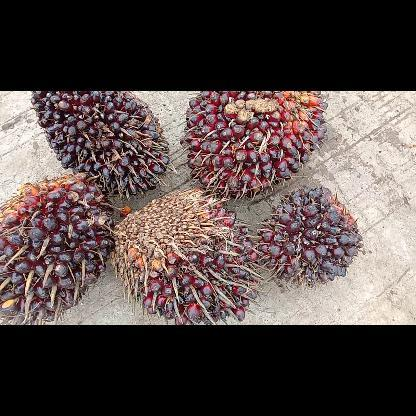TBS mentah: (111, 190, 265, 324), (0, 172, 115, 325), (179, 90, 327, 200), (29, 91, 175, 199), (256, 185, 362, 287)
